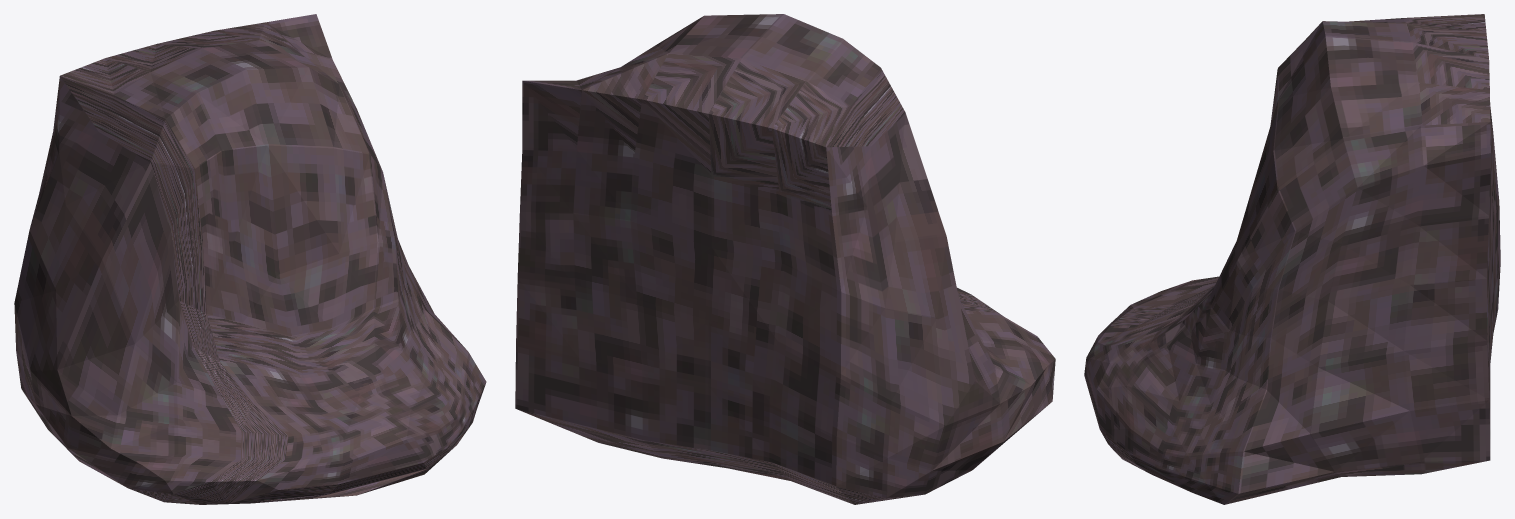
The model's file is RockPile.obj.
3 renders of one model, left to right at view 1: azimuth 30°, elevation 25°; view 2: azimuth 150°, elevation 25°; view 3: azimuth 270°, elevation 25°, orthographic. The views are drawn at different scales.
Visible parts, largest first — view 1: Cube; view 2: Cube; view 3: Cube.
Boxes of the visible parts, x1=… form: Cube: x1=14, y1=14, x2=486, y2=504; Cube: x1=515, y1=14, x2=1055, y2=504; Cube: x1=1084, y1=14, x2=1500, y2=504.
Size of the model in its own units: 2.51 by 2.25 by 2.21.
Materials: 1 (1 with a texture image).
